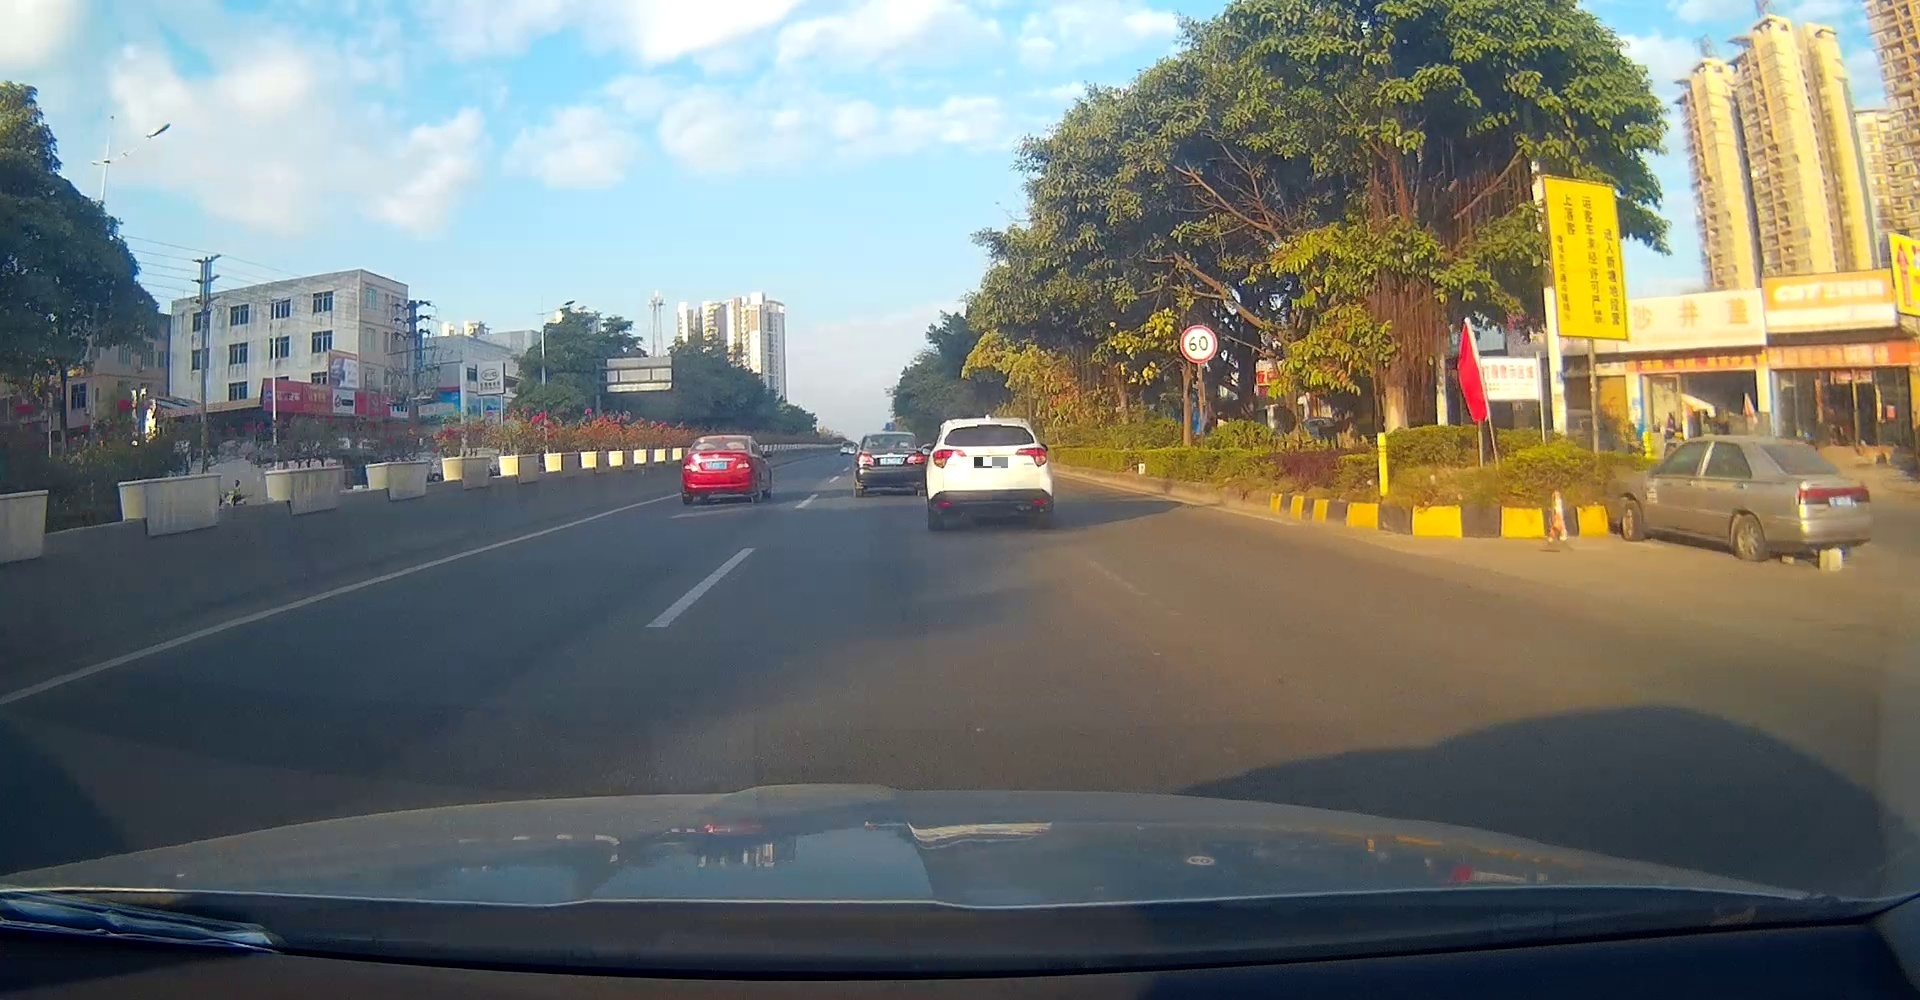L_light: (932, 449, 968, 470), (683, 461, 700, 472), (857, 454, 874, 466)
R_light: (1015, 447, 1048, 467), (905, 453, 926, 464), (734, 459, 752, 471)
T_light: (977, 424, 1002, 429), (714, 437, 730, 442), (885, 434, 897, 437)
day-no: (926, 418, 1051, 530), (682, 435, 753, 504), (856, 431, 926, 497)
plate_1: (974, 457, 1008, 468)
